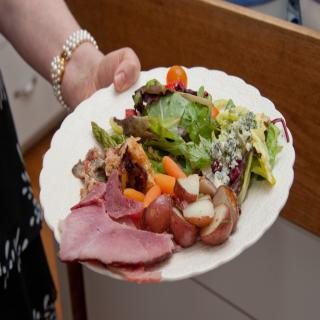Carrot: (160, 159, 186, 188)
Salad: (53, 67, 292, 278)
